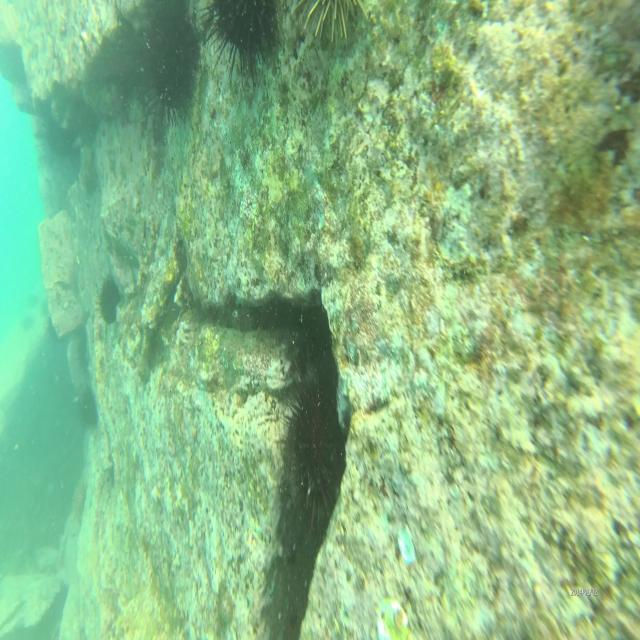echinus: (272, 346, 346, 522), (137, 5, 208, 124), (215, 0, 278, 87), (294, 0, 368, 50), (94, 272, 122, 322), (76, 383, 97, 428)
